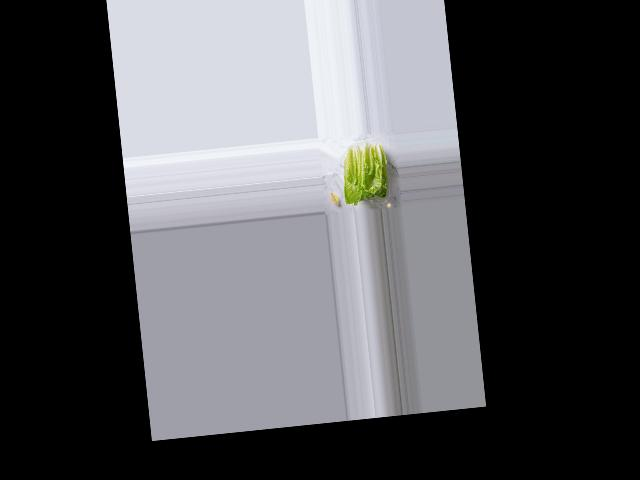lettuce: (337, 140, 392, 207)
